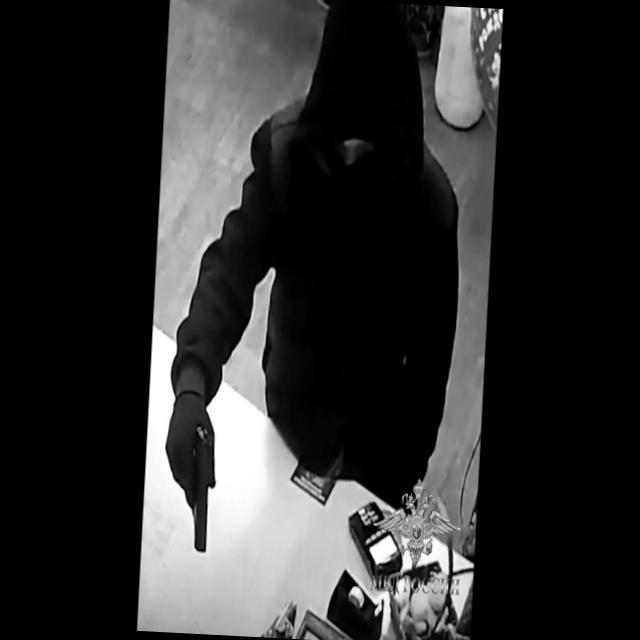gun: (161, 394, 221, 551)
person: (160, 0, 477, 483)
person with a gun: (156, 0, 472, 557)
